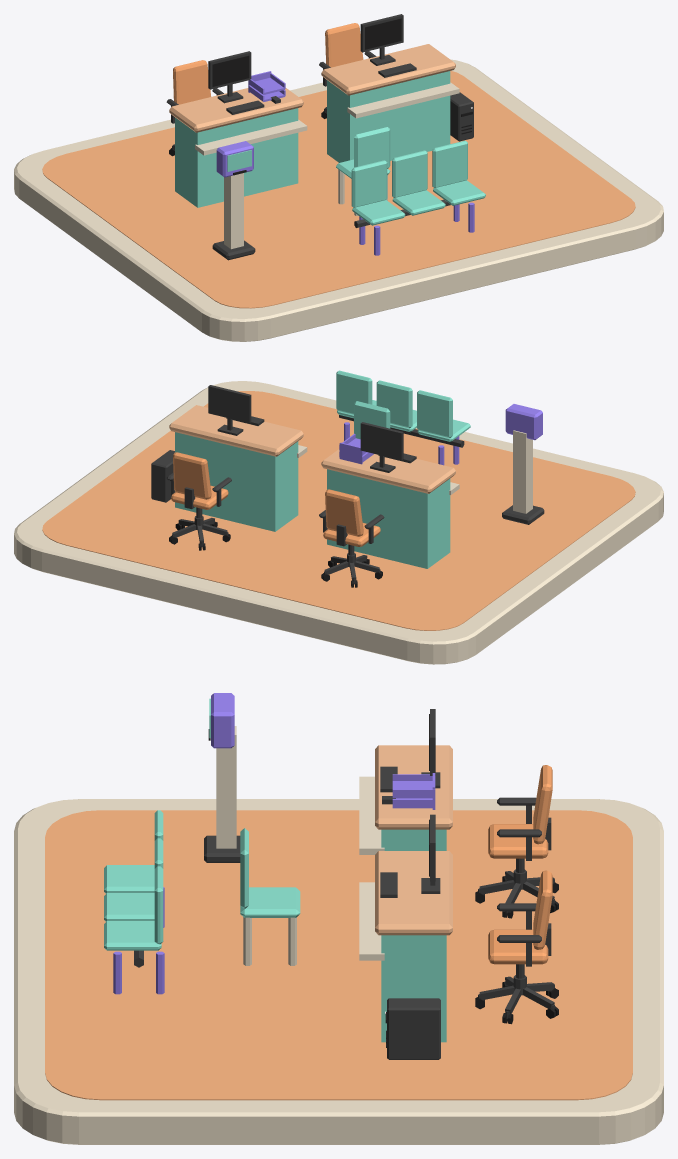
3 views of the same model, one above another, from view 1: azimuth 30°, elevation 25°; view 2: azimuth 150°, elevation 25°; view 3: azimuth 270°, elevation 25° (orthographic). The views are drawn at different scales.
Parts seen in each view (by area): view 1: COM-02 Floor Surface, COM-01 Rounded Base Direct, Counter body.001, Counter body, Countertop.001, Countertop, COM-04_Chair_blender_direct, COM-04_Chair_blender_direct.001, Frame.001, Frame, Back, Back.001 (+11 smaller); view 2: COM-02 Floor Surface, COM-01 Rounded Base Direct, Counter body.001, Counter body, COM-04_Chair_blender_direct.001, COM-04_Chair_blender_direct, Countertop.001, Countertop, Pedestal, Frame.001, Frame, Back (+6 smaller); view 3: COM-02 Floor Surface, COM-01 Rounded Base Direct, Countertop.001, COM-04_Chair_blender_direct.001, COM-04_Chair_blender_direct, Counter body.001, Countertop, Tower, Pedestal, Seat.003, Seat.002, Visitor shelf.001 (+9 smaller).
Part boxes in pixels (bbox=[...]): COM-02 Floor Surface: bbox=[42, 71, 635, 308]; COM-01 Rounded Base Direct: bbox=[14, 59, 663, 341]; Counter body.001: bbox=[327, 71, 450, 162]; Counter body: bbox=[175, 108, 298, 207]; Countertop.001: bbox=[321, 44, 455, 95]; Countertop: bbox=[169, 88, 303, 132]; COM-04_Chair_blender_direct: bbox=[166, 60, 223, 156]; COM-04_Chair_blender_direct.001: bbox=[319, 23, 376, 118]; Frame.001: bbox=[360, 14, 403, 65]; Frame: bbox=[208, 51, 251, 103]; Back: bbox=[351, 160, 387, 207]; Back.001: bbox=[392, 150, 427, 197]; COM-02 Floor Surface: bbox=[42, 391, 635, 630]; COM-01 Rounded Base Direct: bbox=[14, 381, 663, 664]; Counter body.001: bbox=[175, 432, 298, 531]; Counter body: bbox=[327, 469, 450, 568]; COM-04_Chair_blender_direct.001: bbox=[166, 452, 231, 550]; COM-04_Chair_blender_direct: bbox=[319, 489, 384, 587]; Countertop.001: bbox=[169, 405, 303, 456]; Countertop: bbox=[321, 449, 455, 493]; Pedestal: bbox=[513, 430, 532, 513]; Frame.001: bbox=[208, 385, 251, 435]; Frame: bbox=[360, 422, 403, 472]; Back: bbox=[417, 390, 452, 437]; COM-02 Floor Surface: bbox=[45, 810, 632, 1100]; COM-01 Rounded Base Direct: bbox=[14, 799, 663, 1144]; Countertop.001: bbox=[375, 851, 452, 935]; COM-04_Chair_blender_direct.001: bbox=[475, 870, 558, 1024]; COM-04_Chair_blender_direct: bbox=[475, 765, 558, 918]; Counter body.001: bbox=[381, 935, 446, 1042]; Countertop: bbox=[375, 745, 452, 829]; Tower: bbox=[387, 998, 440, 1059]; Pedestal: bbox=[216, 726, 236, 848]; Seat.003: bbox=[240, 887, 300, 917]; Seat.002: bbox=[104, 921, 161, 950]; Visitor shelf.001: bbox=[359, 882, 384, 960].
Size of the model in its own units: 6 by 1.87 by 5.2.
1 material, 1 textured.
